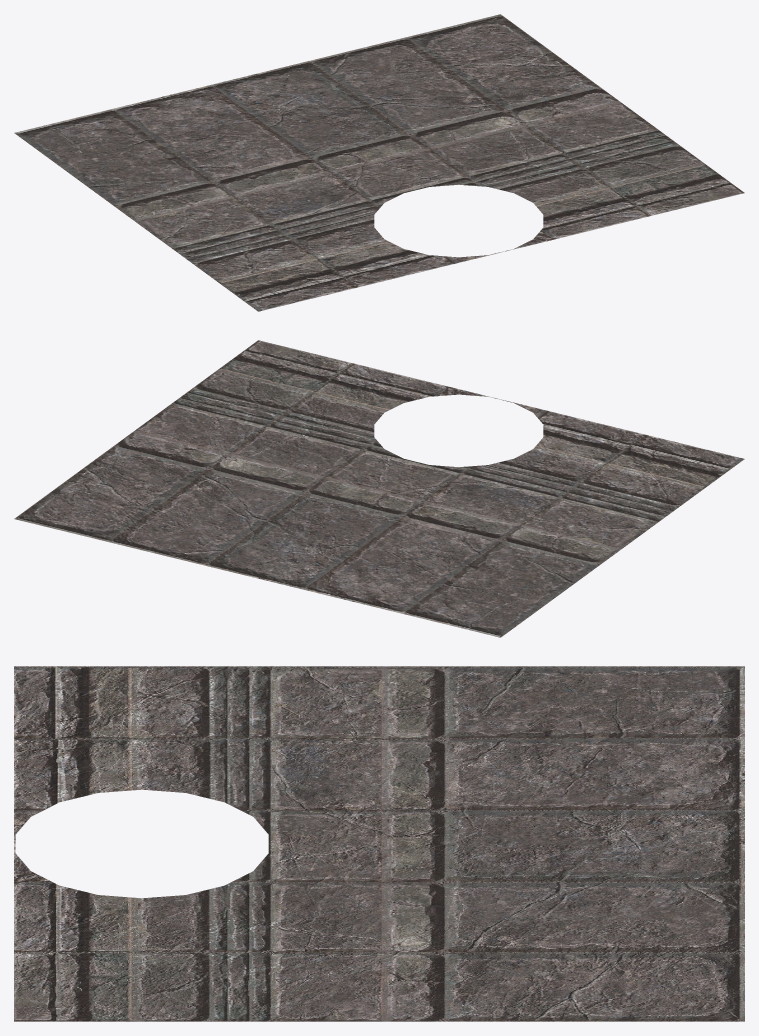
File: 하수구 천장.fbx
The picture shows the model from 3 angles, top to bottom: view 1: azimuth 30°, elevation 25°; view 2: azimuth 150°, elevation 25°; view 3: azimuth 270°, elevation 25°; orthographic projection. The views are drawn at different scales.
Visible parts, largest first — view 1: 하수도 천장; view 2: 하수도 천장; view 3: 하수도 천장.
Boxes of the visible parts, <box> form: 하수도 천장: <box>14,14,744,311</box>; 하수도 천장: <box>14,340,744,637</box>; 하수도 천장: <box>14,666,744,1021</box>.
Bounding box in the file's own units: 139 × 0 × 121.
